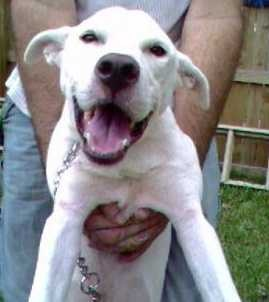Dog: (28, 7, 236, 301)
